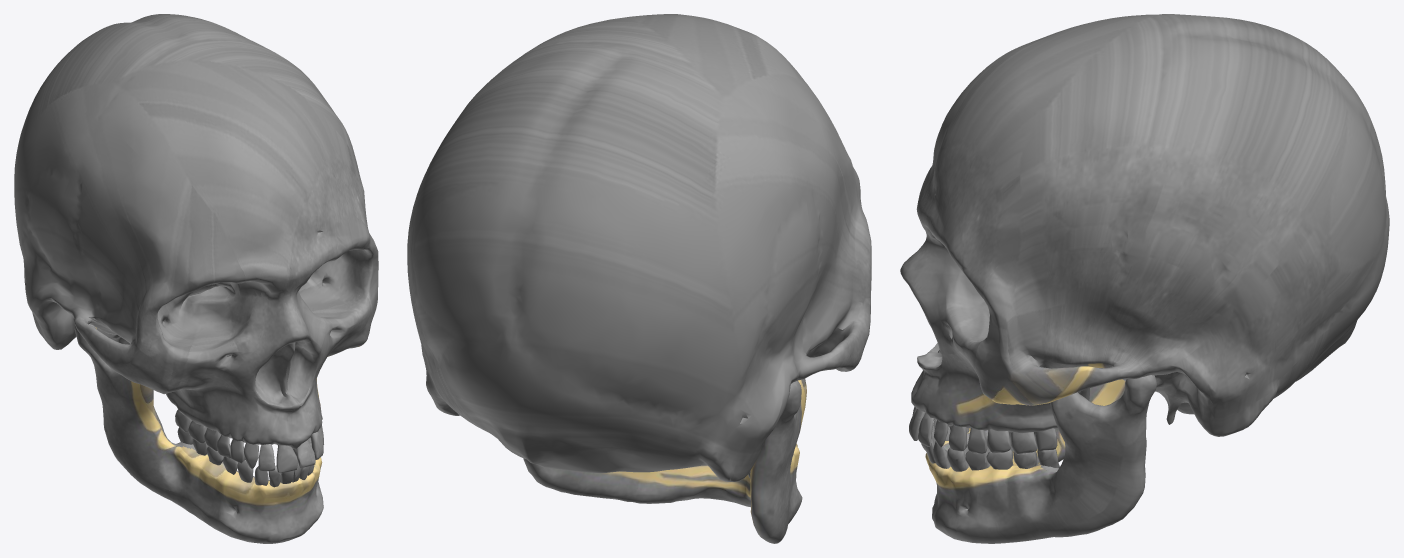
The model's file is Skul.fbx.
The picture shows the model from 3 angles, left to right: view 1: azimuth 30°, elevation 25°; view 2: azimuth 150°, elevation 25°; view 3: azimuth 270°, elevation 25°; orthographic projection. The views are drawn at different scales.
Parts seen in each view (by area): view 1: Object_2; view 2: Object_2; view 3: Object_2.
Part boxes in pixels (x1,y1,x2,y2): Object_2: (14,14,378,543); Object_2: (407,14,871,543); Object_2: (900,14,1389,543).
Bounding box in the file's own units: 134 × 200 × 179.
